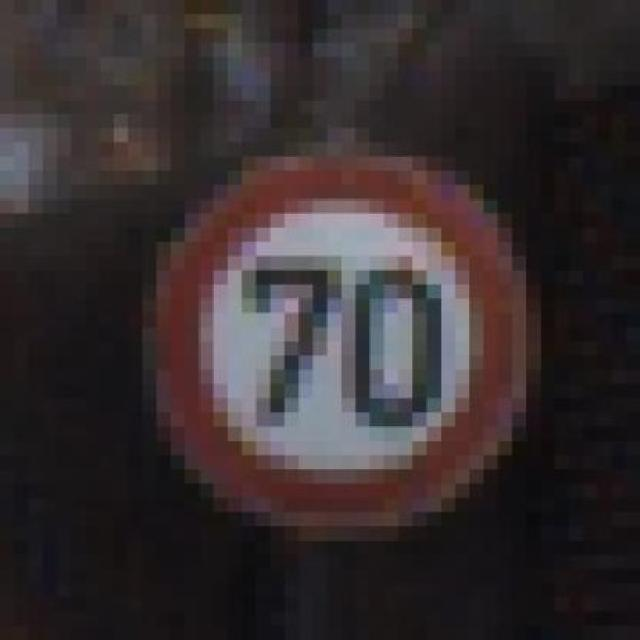forb_speed_over_70: (160, 154, 518, 525)
